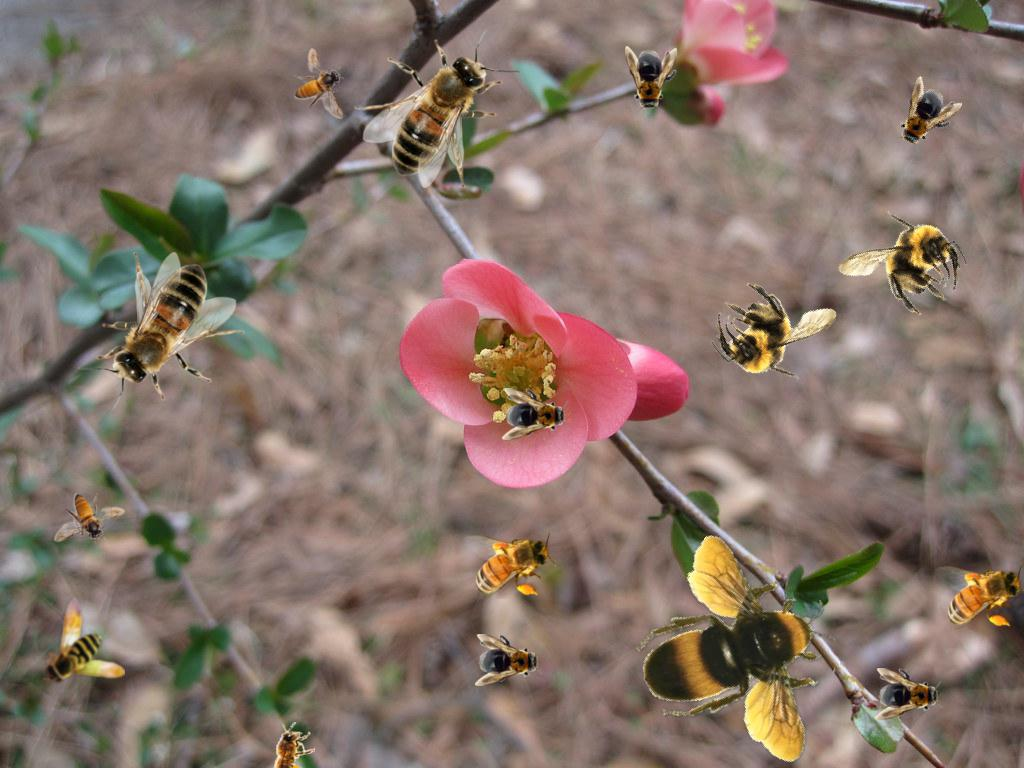Bee: (597, 513, 889, 768), (78, 252, 245, 414), (354, 26, 521, 188), (695, 251, 854, 408), (825, 188, 980, 341), (43, 597, 125, 685), (884, 75, 964, 161), (463, 531, 556, 599), (935, 562, 1024, 630), (294, 48, 344, 119), (54, 493, 125, 543), (502, 388, 570, 440), (625, 46, 677, 114), (475, 634, 543, 686), (875, 668, 943, 720), (270, 722, 315, 768)
